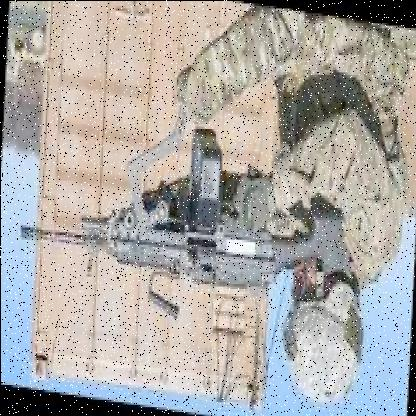rifle: (11, 157, 341, 320)
